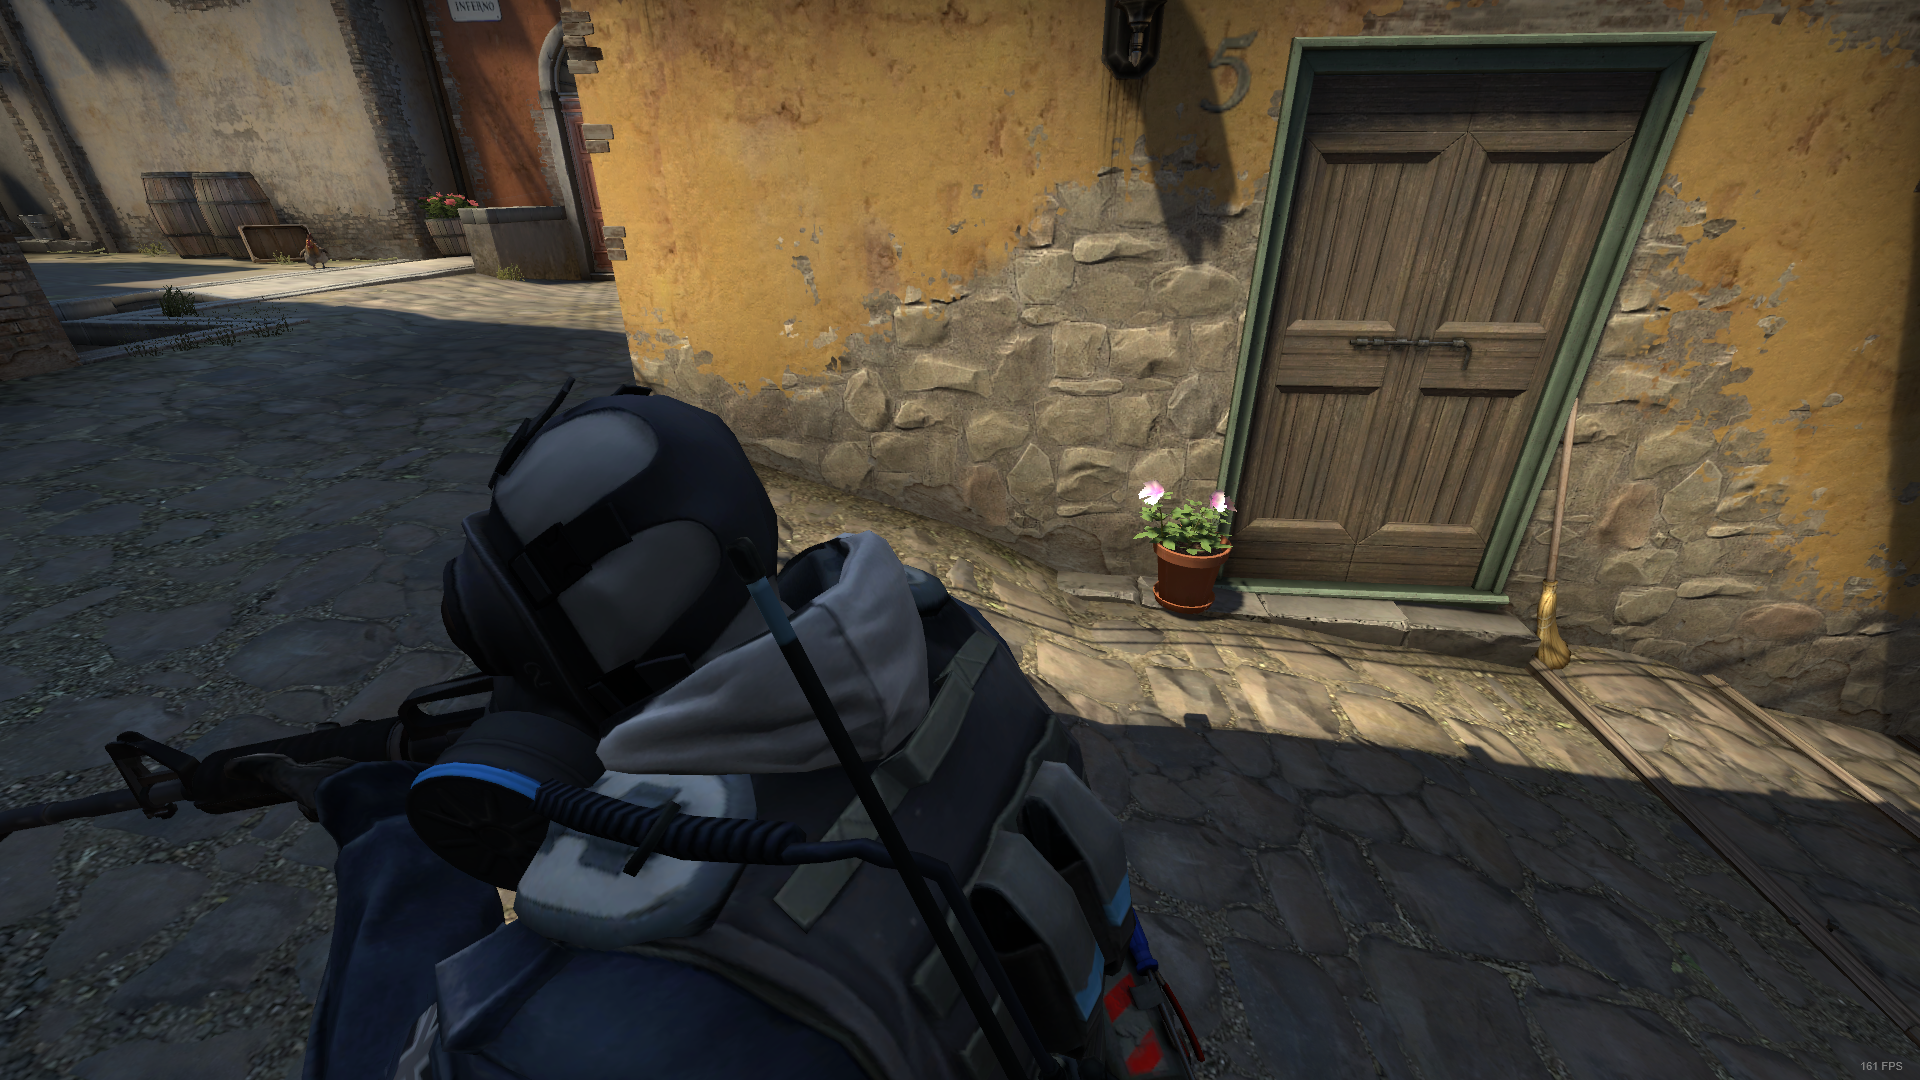ct: (222, 361, 1226, 1080)
